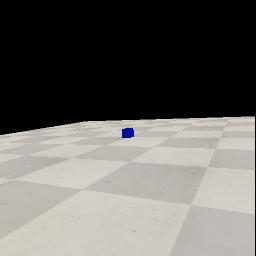box: (122, 128, 134, 138)
